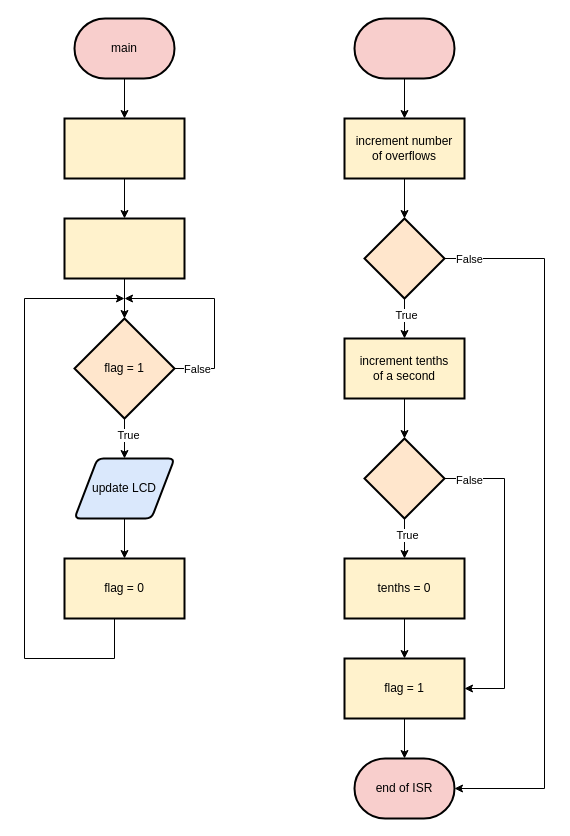
The diagram is 570 pixels wide and 836 high, and some of its shapes have lost their labels. The centre of each missing label's shape, as x and y in pixels:
"6 th overflow" goes at [404,258].
"ISR Timer 2 OVF" goes at [404,48].
"setup LCD" goes at [124,148].
"setup Timer 2 overflow 16 ms" goes at [124,248].
"tenths >= 9" goes at [404,478].
